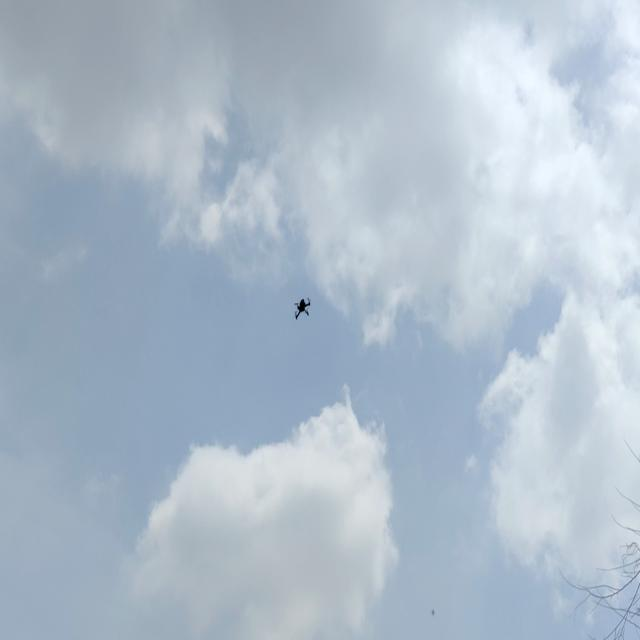drone: (289, 293, 319, 323)
